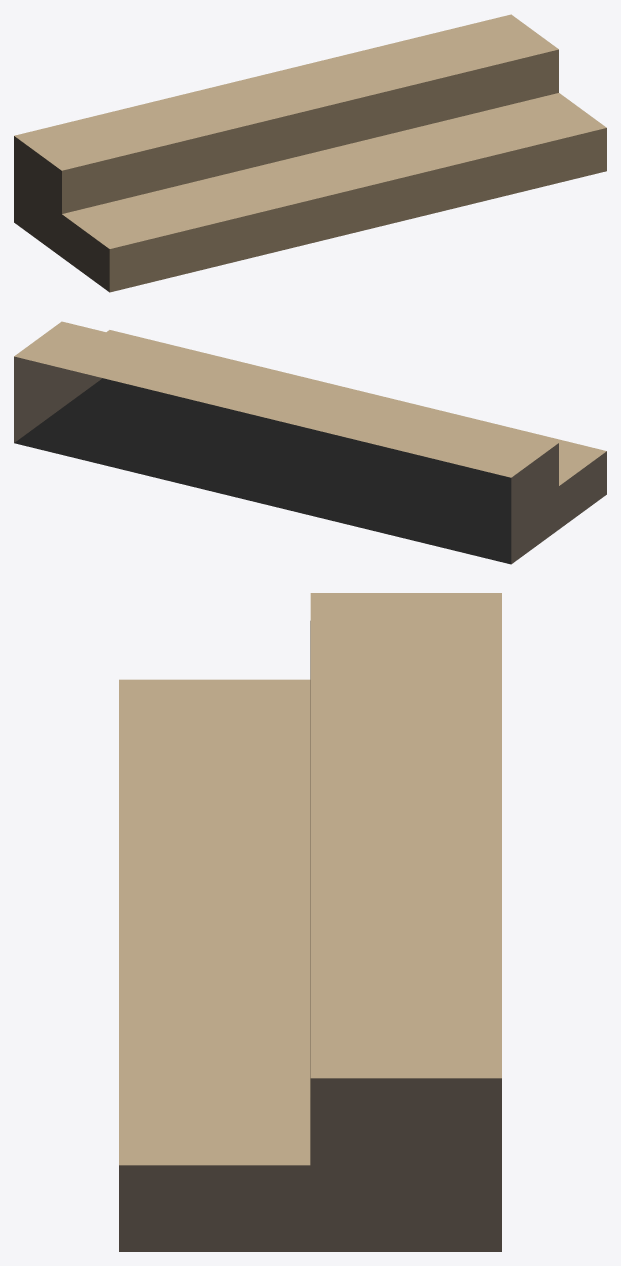
The model's file is TB_D_Bd_DoorStair_A.FBX.
3 renders of one model, top to bottom at view 1: azimuth 30°, elevation 25°; view 2: azimuth 150°, elevation 25°; view 3: azimuth 270°, elevation 25°, orthographic. The views are drawn at different scales.
Visible parts, largest first — view 1: TB_D_Bd_DoorStair_A; view 2: TB_D_Bd_DoorStair_A; view 3: TB_D_Bd_DoorStair_A.
Boxes of the visible parts, x1,y1,x2,y2 form: TB_D_Bd_DoorStair_A: (14,14,606,292); TB_D_Bd_DoorStair_A: (14,321,606,564); TB_D_Bd_DoorStair_A: (119,593,501,1251).
Size of the model in its own units: 1.2 by 0.2 by 0.4.
